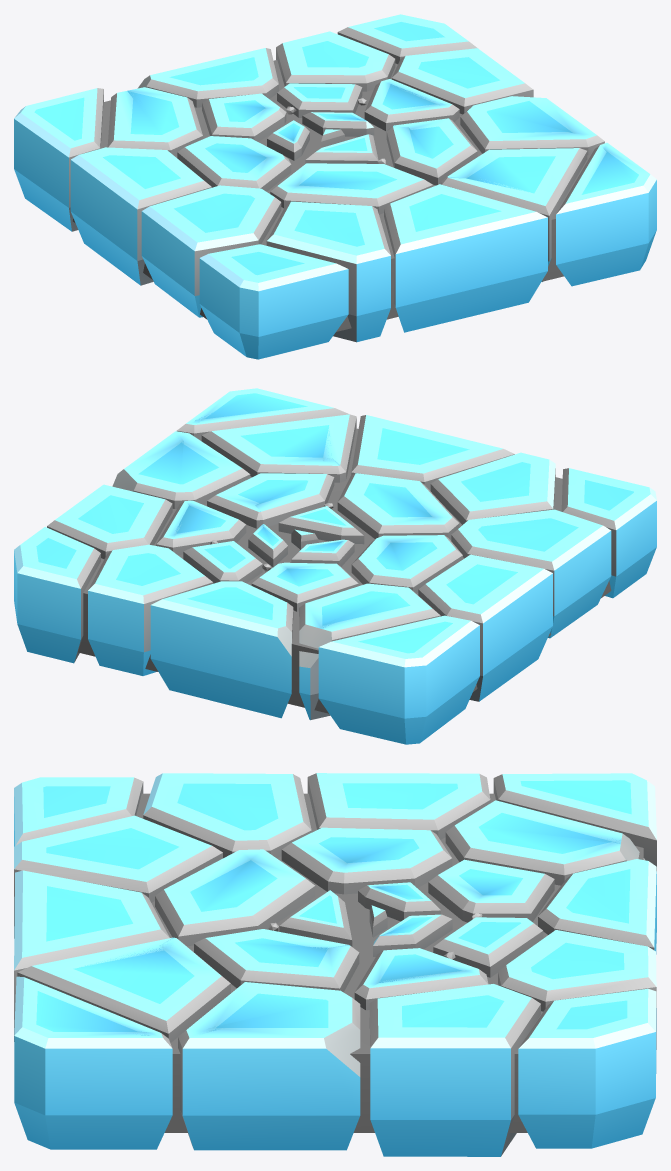
Rendered from crumble_snow.glb.
The picture shows the model from 3 angles, top to bottom: view 1: azimuth 30°, elevation 25°; view 2: azimuth 150°, elevation 25°; view 3: azimuth 270°, elevation 25°; orthographic projection. The views are drawn at different scales.
Visible parts, largest first — view 1: crumble_snow; view 2: crumble_snow; view 3: crumble_snow.
Boxes of the visible parts, x1=… form: crumble_snow: x1=14, y1=14, x2=656, y2=359; crumble_snow: x1=14, y1=388, x2=656, y2=744; crumble_snow: x1=14, y1=773, x2=656, y2=1156.
Size of the model in its own units: 2.4 by 0.5 by 2.4.
